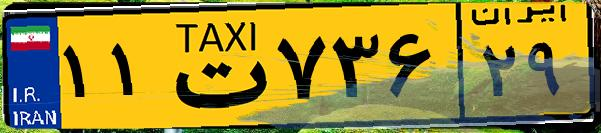1: (57, 26, 110, 100), (110, 28, 158, 98)
2: (475, 38, 525, 113)
3: (330, 28, 385, 110)
6: (385, 28, 445, 110)
7: (270, 28, 330, 110)
9: (525, 38, 570, 115)
ت: (158, 12, 270, 120)
